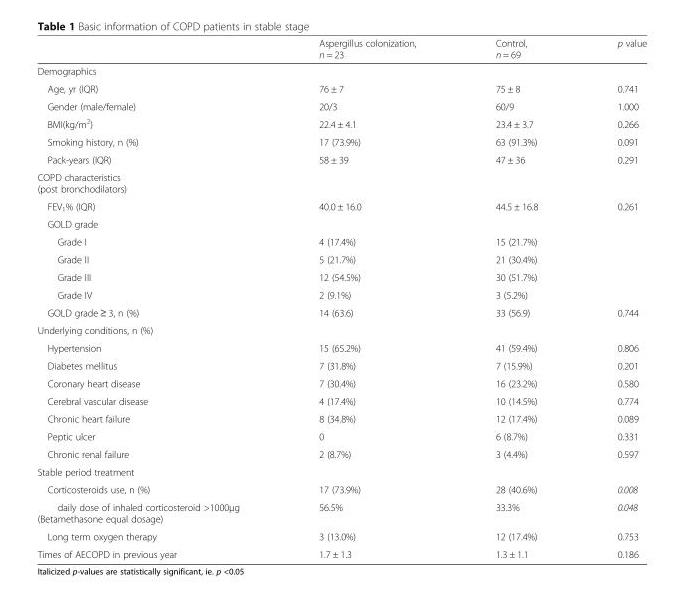table: (36, 37, 646, 559)
table column: (36, 37, 278, 559), (278, 37, 455, 559), (455, 37, 577, 559), (577, 37, 646, 559)
table column header: (36, 37, 646, 62)
table projected row header: (36, 168, 646, 197), (36, 462, 646, 480), (36, 62, 646, 79), (36, 215, 646, 232), (36, 321, 646, 338)
table row: (36, 497, 646, 527), (36, 168, 646, 197), (36, 37, 646, 62), (36, 79, 646, 97), (36, 114, 646, 132), (36, 132, 646, 150), (36, 150, 646, 168), (36, 197, 646, 215), (36, 232, 646, 250), (36, 250, 646, 268), (36, 285, 646, 303), (36, 303, 646, 321), (36, 338, 646, 356), (36, 356, 646, 374), (36, 391, 646, 409), (36, 409, 646, 427), (36, 444, 646, 462), (36, 462, 646, 480), (36, 62, 646, 79), (36, 97, 646, 114), (36, 215, 646, 232), (36, 268, 646, 285), (36, 321, 646, 338), (36, 374, 646, 391), (36, 427, 646, 444), (36, 480, 646, 497), (36, 527, 646, 544), (36, 544, 646, 559)
